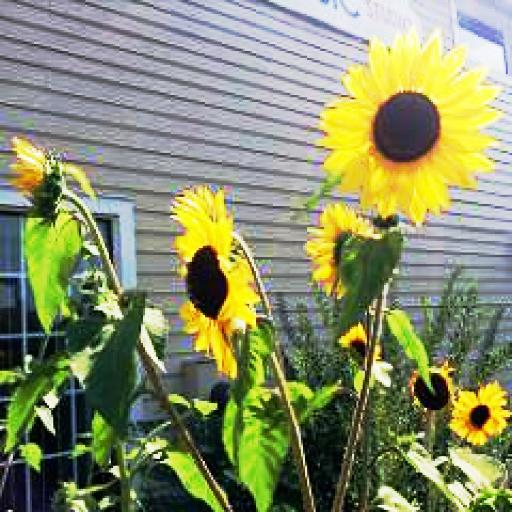sunflower: (320, 24, 506, 222), (173, 188, 256, 384), (309, 206, 378, 299), (450, 384, 512, 442)
